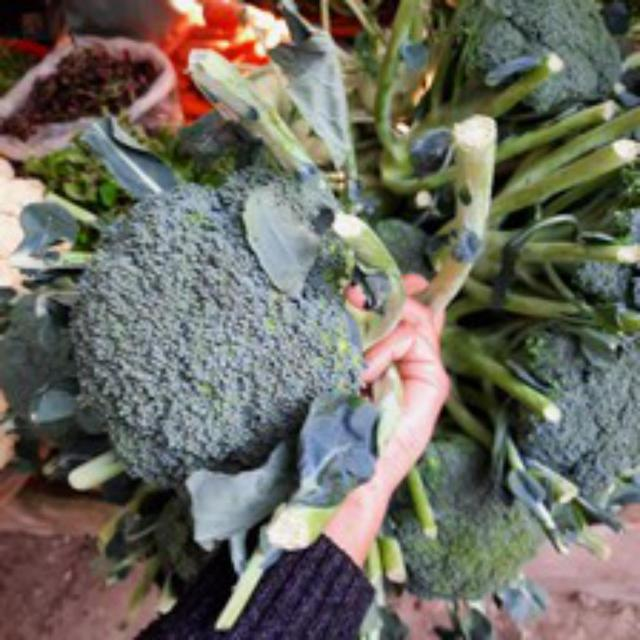broccoli: (68, 170, 370, 482)
